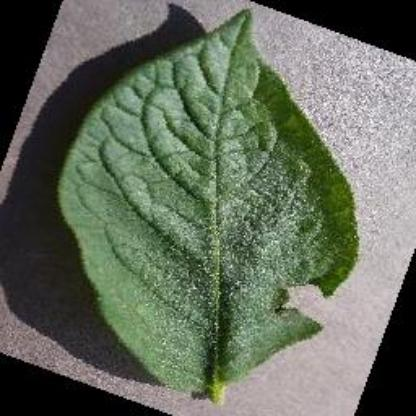Healthy-plant: (39, 9, 378, 410)
